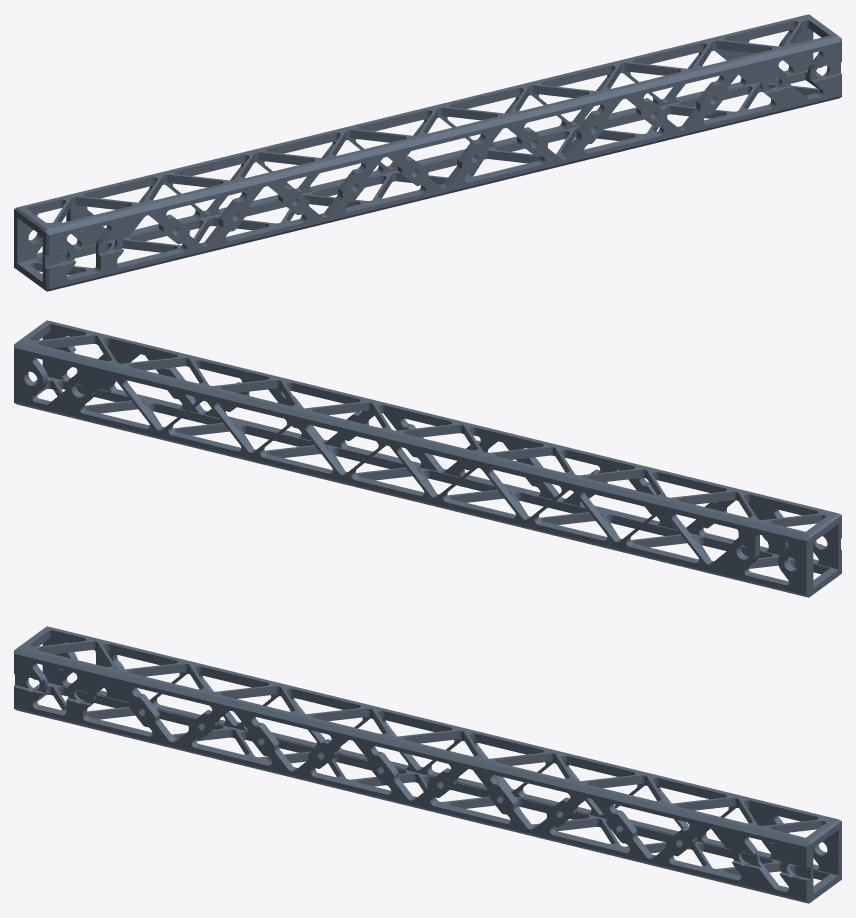
3 views of the same model, one above another, from view 1: azimuth 30°, elevation 25°; view 2: azimuth 150°, elevation 25°; view 3: azimuth 330°, elevation 25° (orthographic).
Visible parts, largest first — view 1: cnc_al_fysetc_v0_15x15; view 2: cnc_al_fysetc_v0_15x15; view 3: cnc_al_fysetc_v0_15x15.
Part boxes in pixels (x1,y1,x2,y2): cnc_al_fysetc_v0_15x15: (14,14,841,291); cnc_al_fysetc_v0_15x15: (14,320,841,597); cnc_al_fysetc_v0_15x15: (14,626,841,903).
Size of the model in its own units: 0.2 by 0.015 by 0.015.
